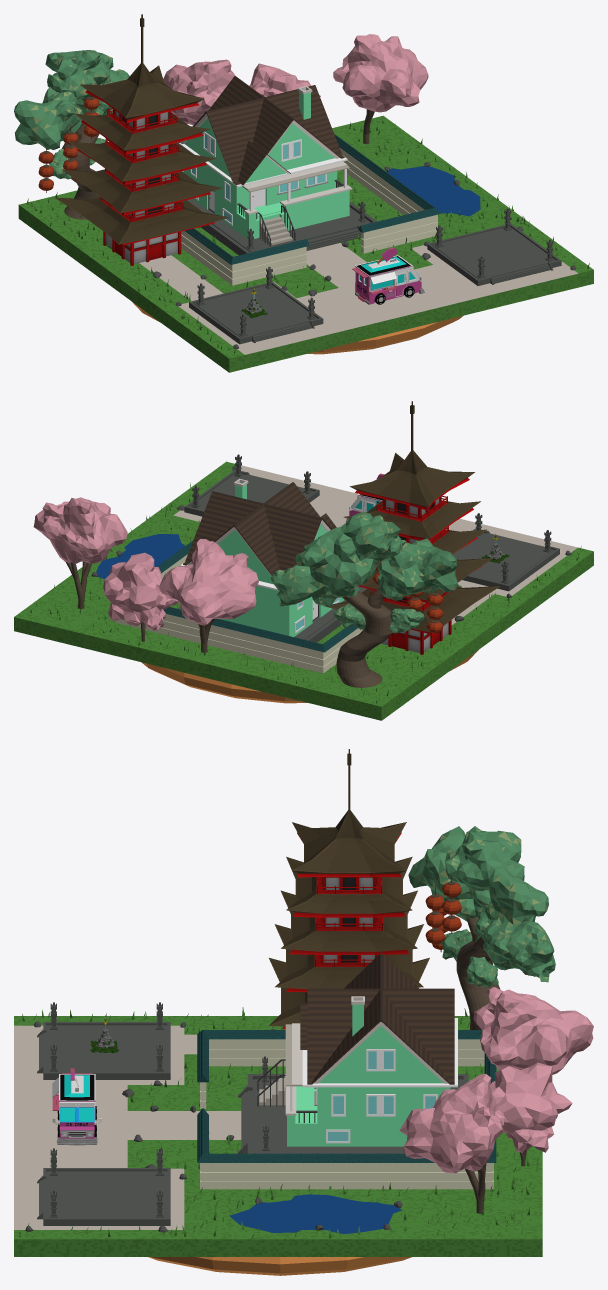
3 renders of one model, top to bottom at view 1: azimuth 30°, elevation 25°; view 2: azimuth 150°, elevation 25°; view 3: azimuth 270°, elevation 25°, orthographic. The views are drawn at different scales.
Parts seen in each view (by area): view 1: Cube.005, Cube.352, VEHICLES_ICE_CREAM_TRUCK, UNDERGROUND_PIZZA; view 2: Cube.005, Cube.352, UNDERGROUND_PIZZA, VEHICLES_ICE_CREAM_TRUCK; view 3: Cube.005, Cube.352, UNDERGROUND_PIZZA, VEHICLES_ICE_CREAM_TRUCK.
Boxes of the visible parts, x1,y1,x2,y2 form: Cube.005: (14, 14, 593, 372); Cube.352: (177, 76, 352, 246); VEHICLES_ICE_CREAM_TRUCK: (352, 247, 424, 304); UNDERGROUND_PIZZA: (132, 302, 463, 354); Cube.005: (14, 401, 593, 720); Cube.352: (180, 478, 344, 636); UNDERGROUND_PIZZA: (141, 650, 478, 703); VEHICLES_ICE_CREAM_TRUCK: (345, 473, 384, 521); Cube.005: (14, 749, 593, 1256); Cube.352: (257, 953, 457, 1146); UNDERGROUND_PIZZA: (148, 1257, 411, 1275); VEHICLES_ICE_CREAM_TRUCK: (52, 1068, 101, 1145).
Size of the model in its own units: 4528 by 2902 by 4389.
53 materials, 5 textured.
